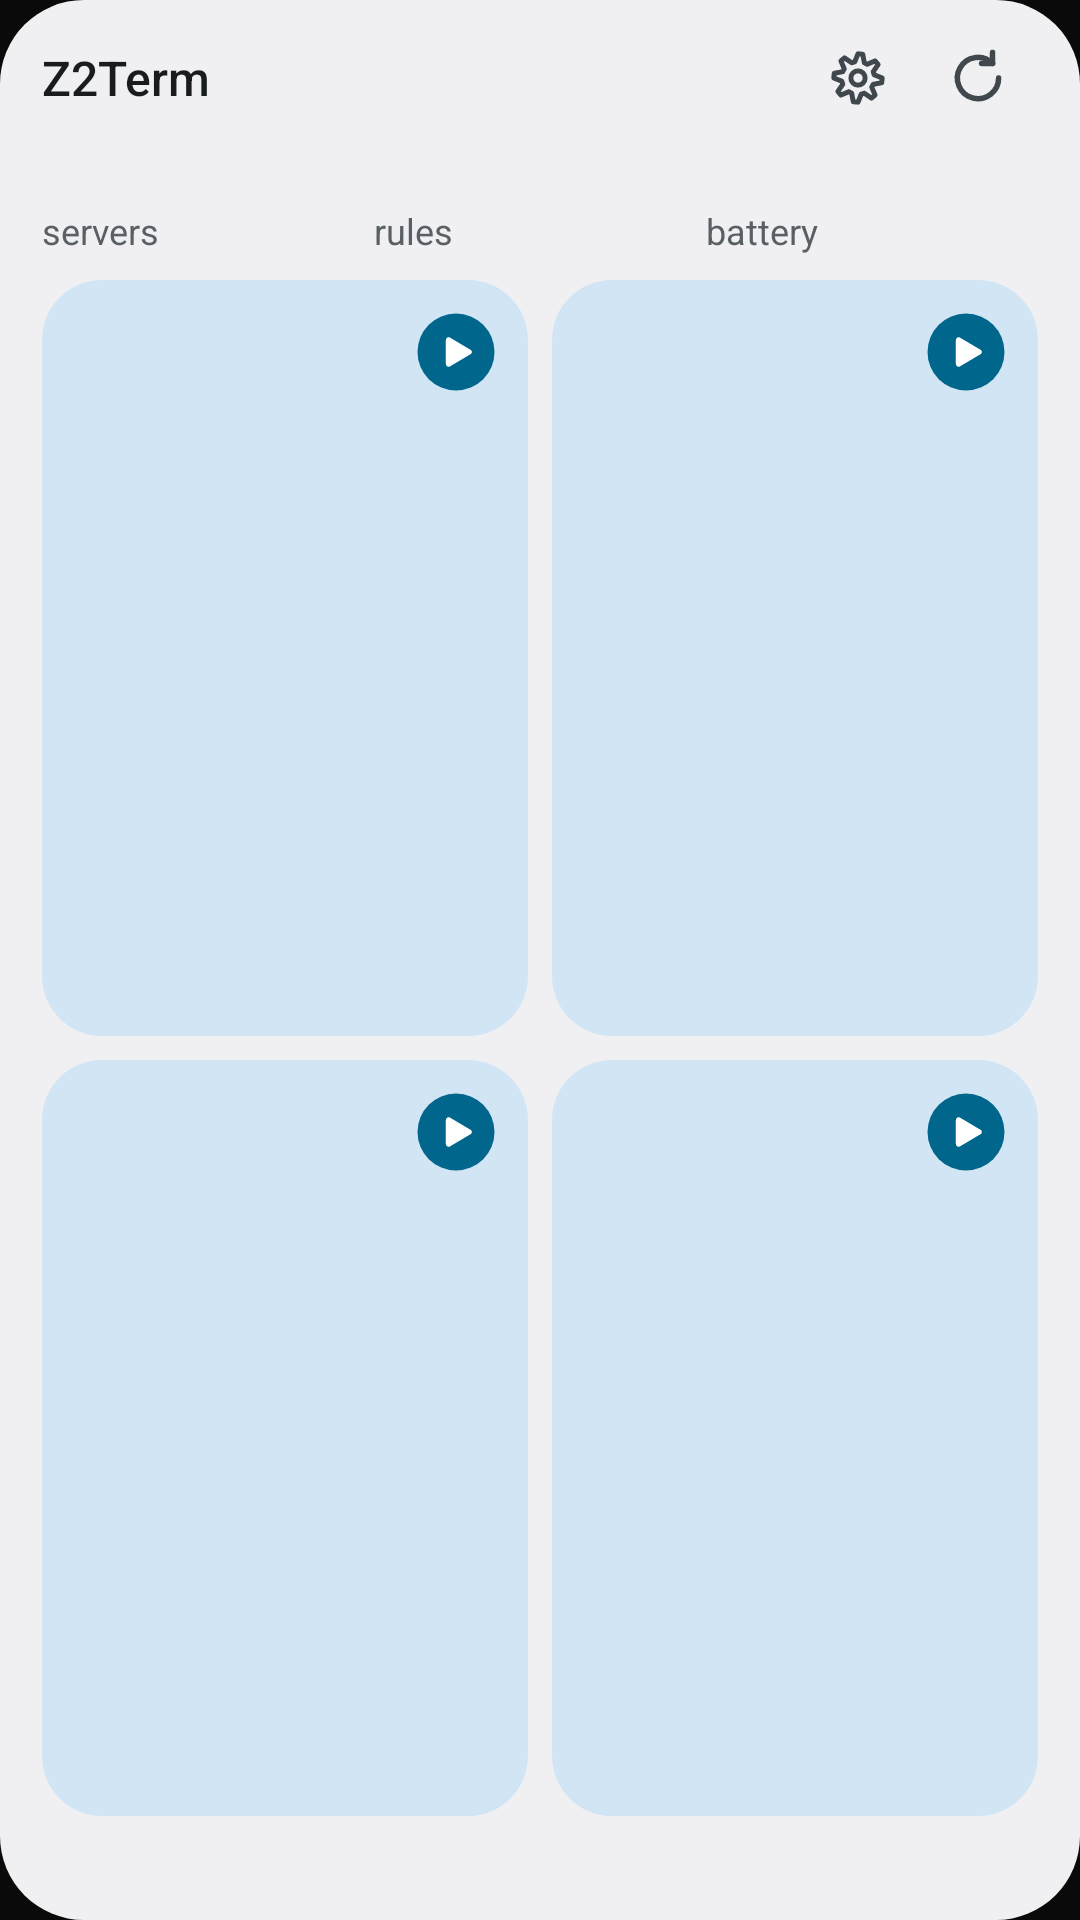

Icons on this 1080x1920 Android screen, each with its box as Rect(x1, y1, x2, y2):
Refresh: Rect(954, 49, 1002, 102)
widget run: Rect(417, 313, 495, 391), Rect(927, 313, 1005, 391), Rect(417, 1093, 495, 1171), Rect(927, 1093, 1005, 1171)
